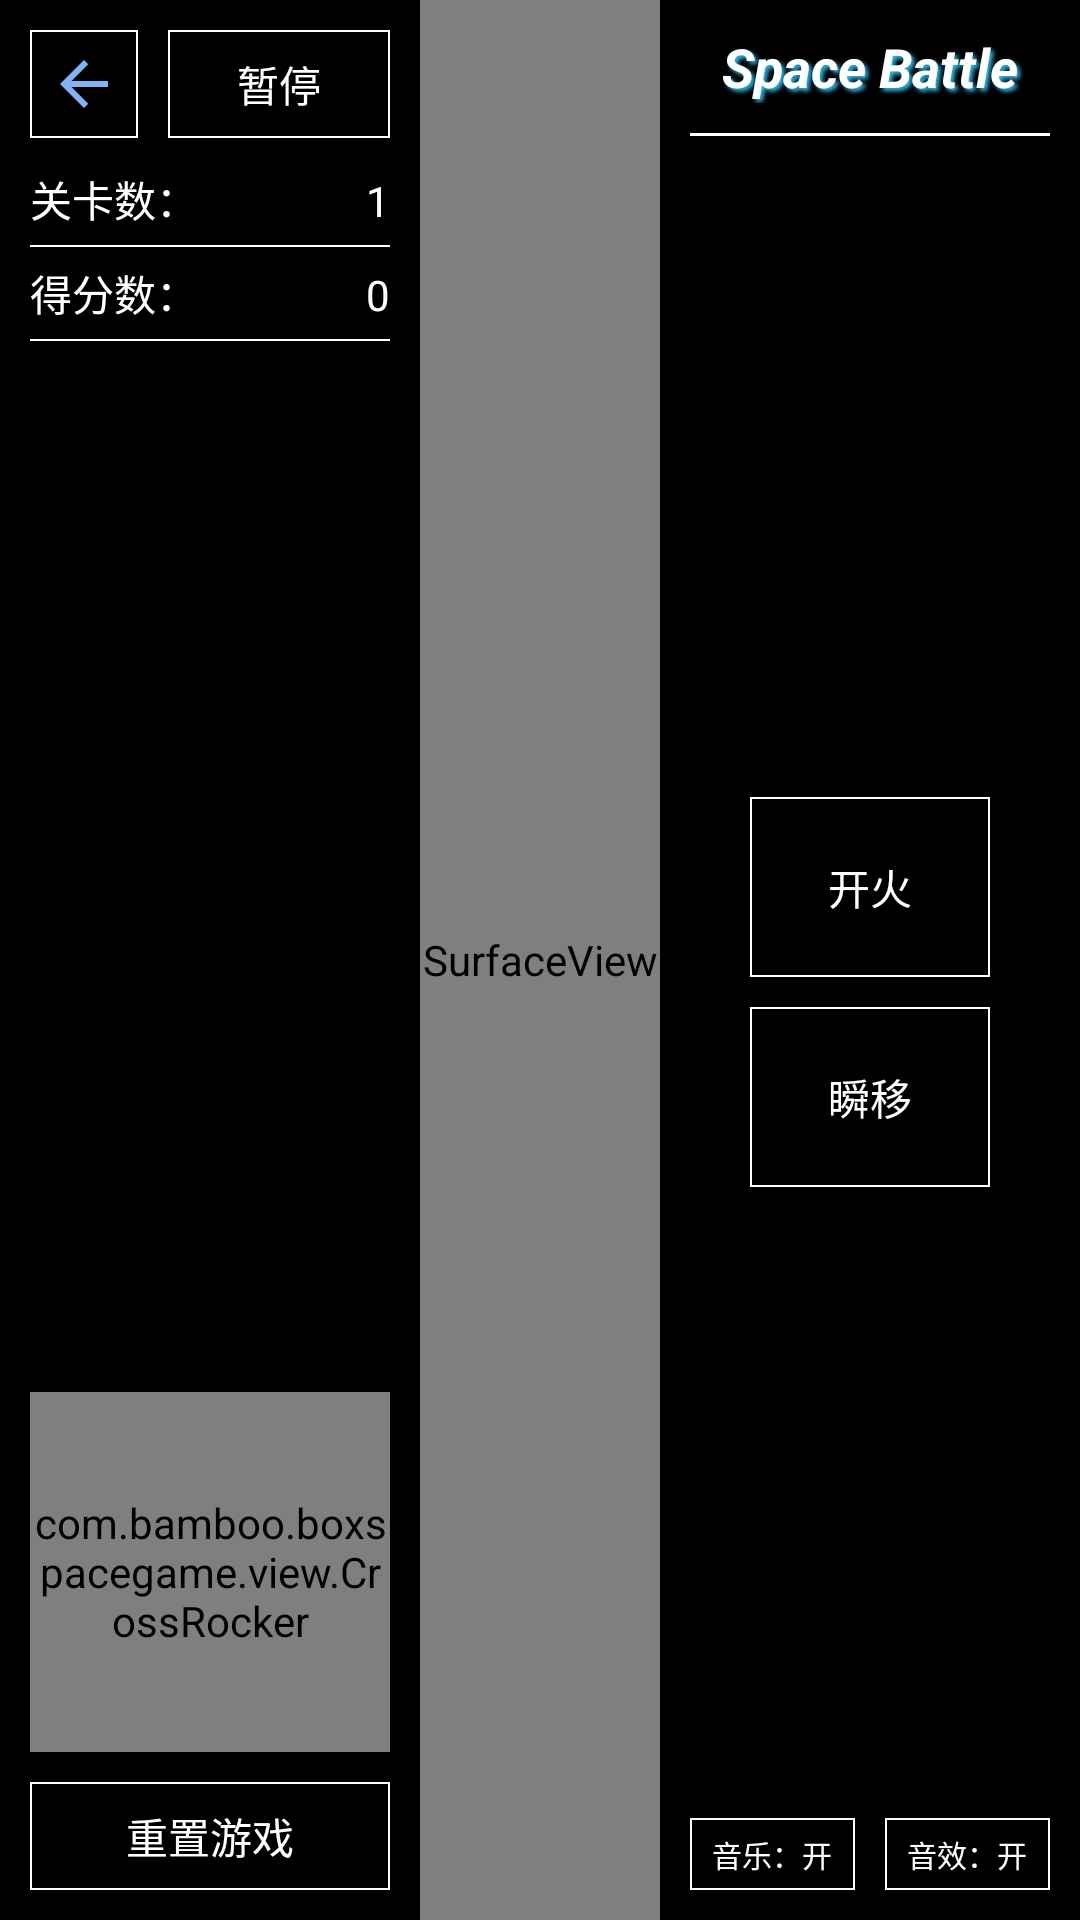

Where icons sit on this 1080 x 1920 app screen, as bbox=(x1, y1, x2, y2):
arrow back: bbox=(30, 30, 138, 138)
